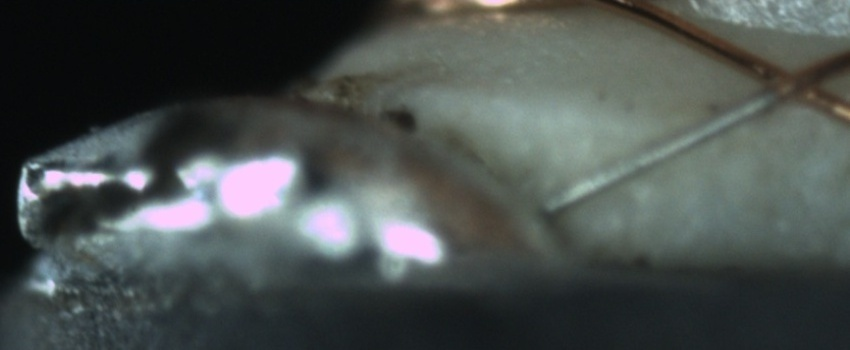CL: (745, 48, 845, 117)
TS: (534, 91, 771, 219)
